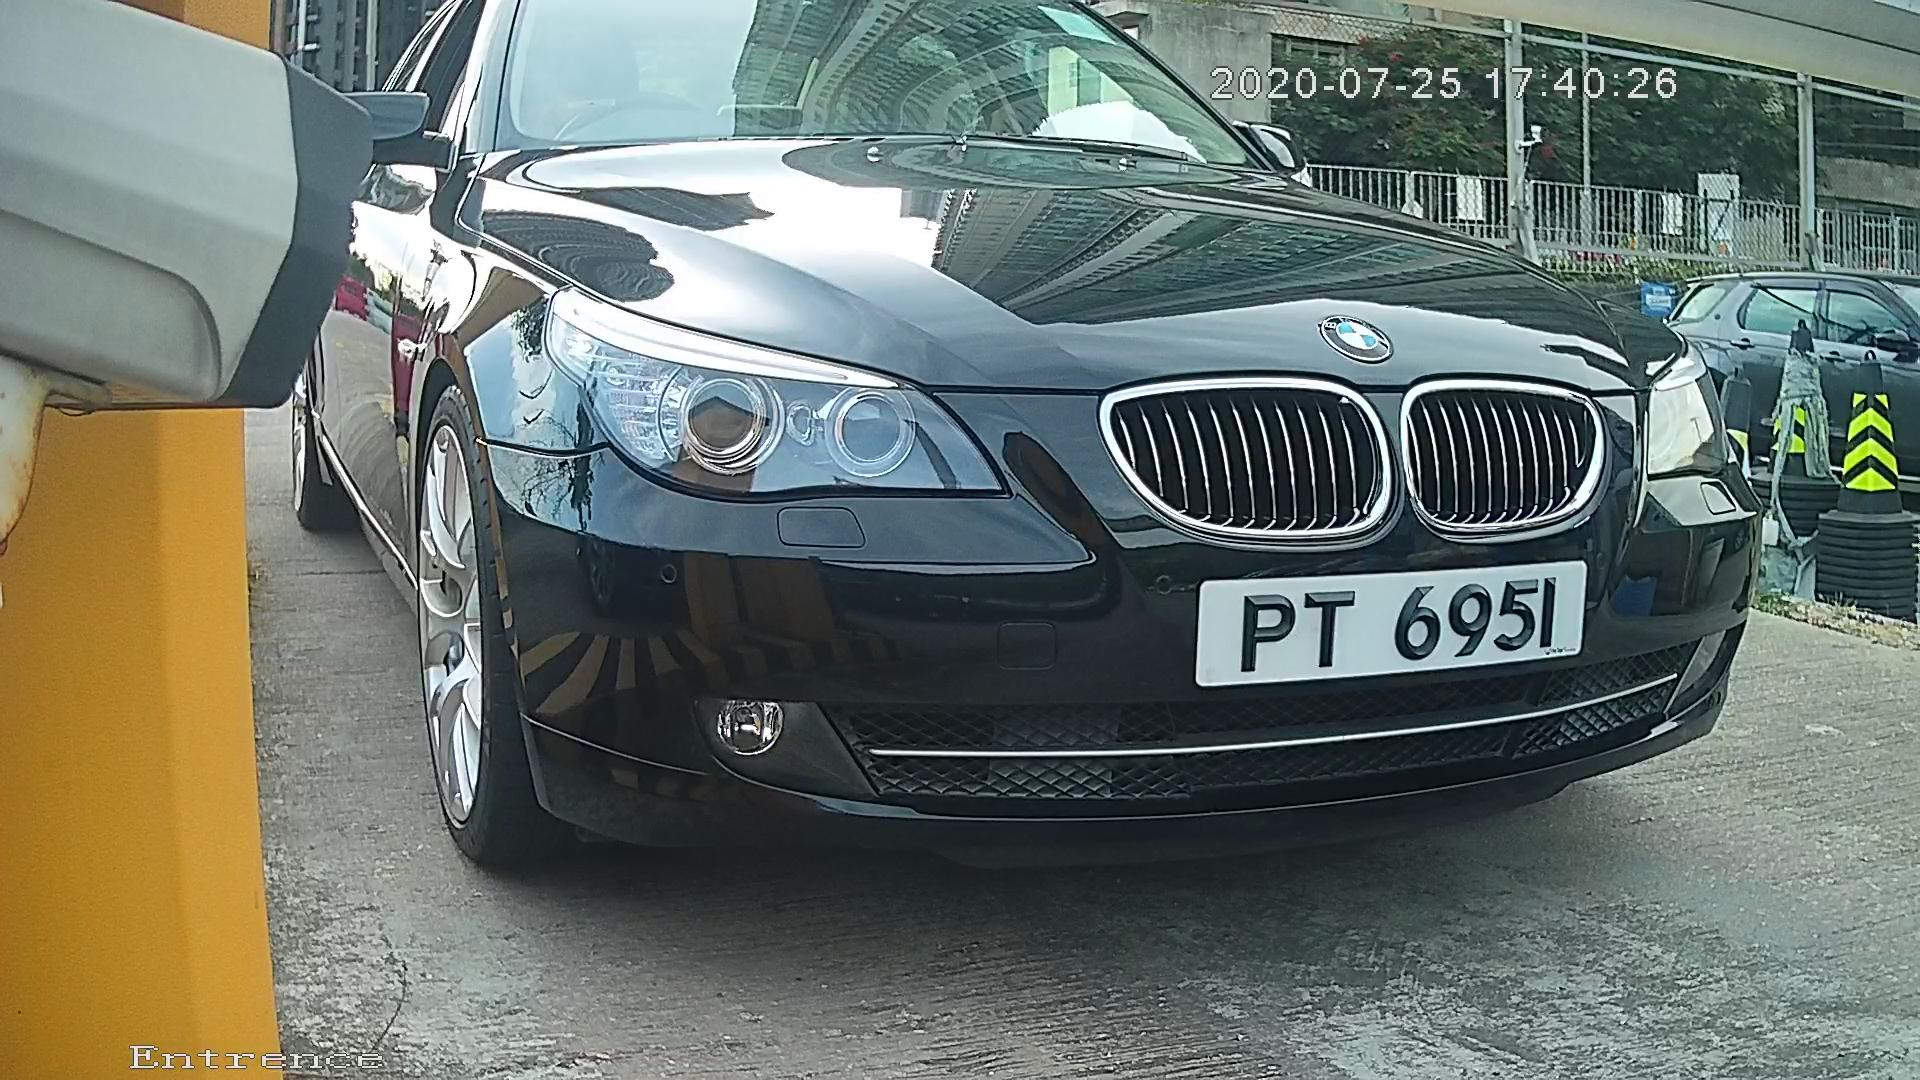License Plate: (1166, 550, 1603, 700)
